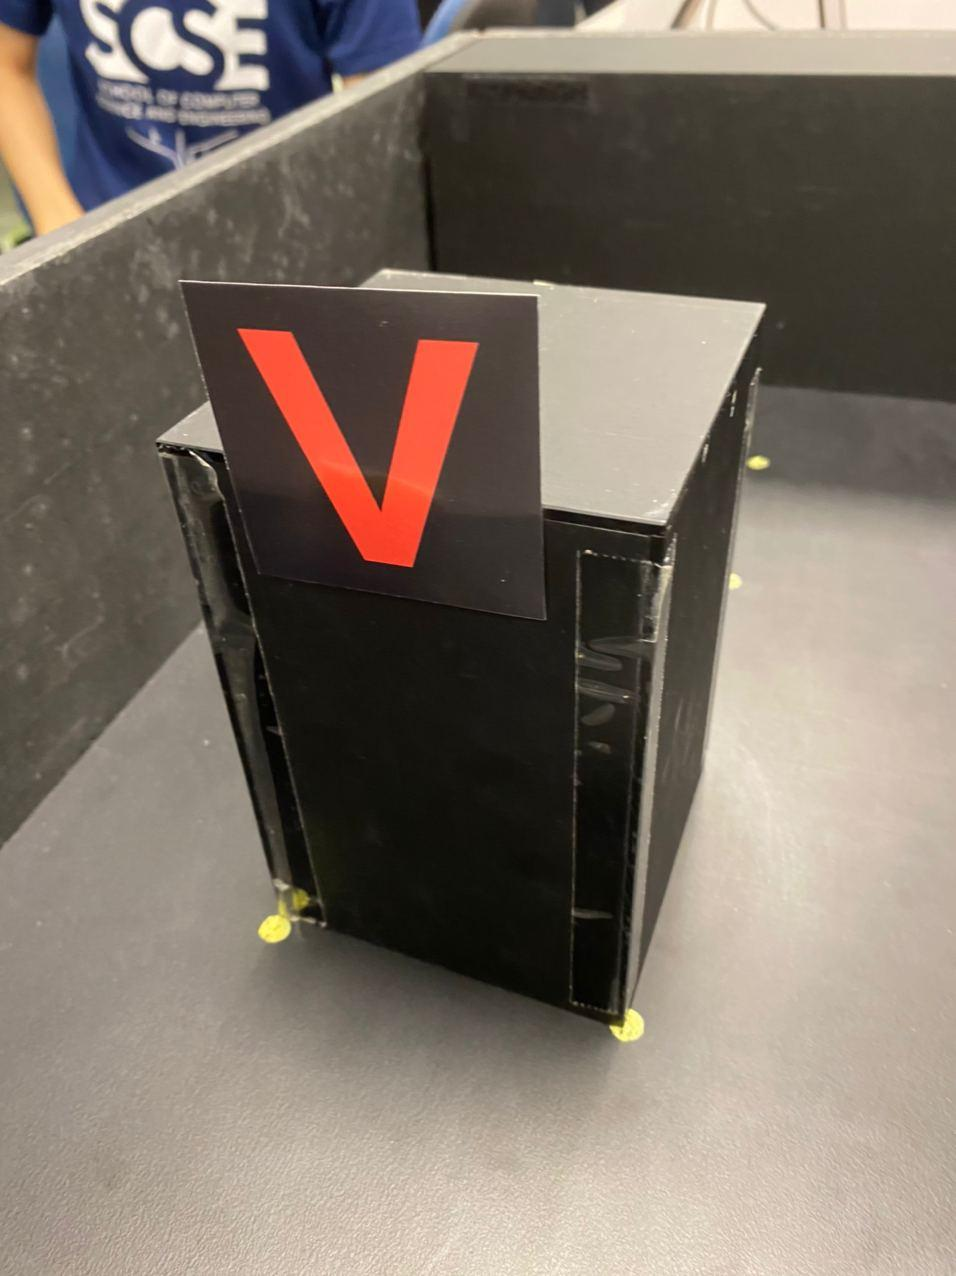v: (230, 299, 501, 593)
